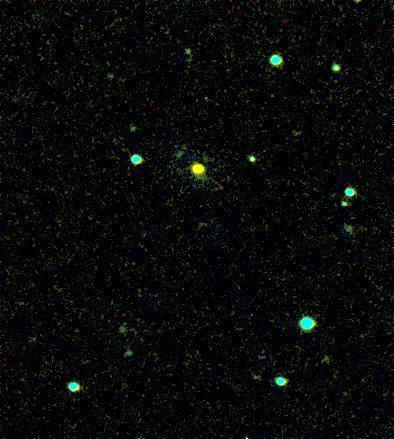star: (185, 159, 215, 189)
